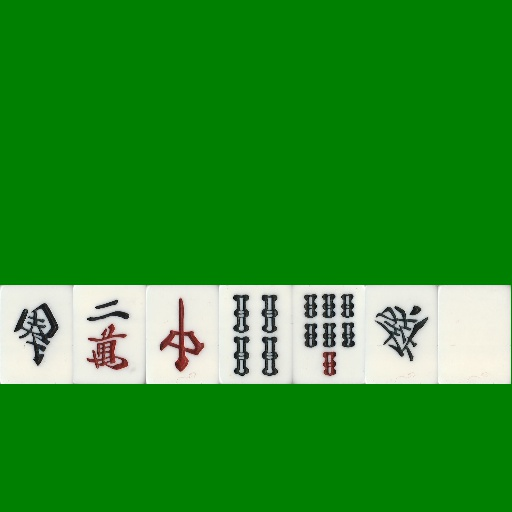2m: (73, 285, 146, 384)
4s: (219, 285, 292, 384)
7s: (292, 285, 365, 384)
hatsu: (365, 285, 438, 384)
south: (0, 285, 73, 384)
tyun: (146, 285, 219, 384)
white: (438, 285, 511, 384)
